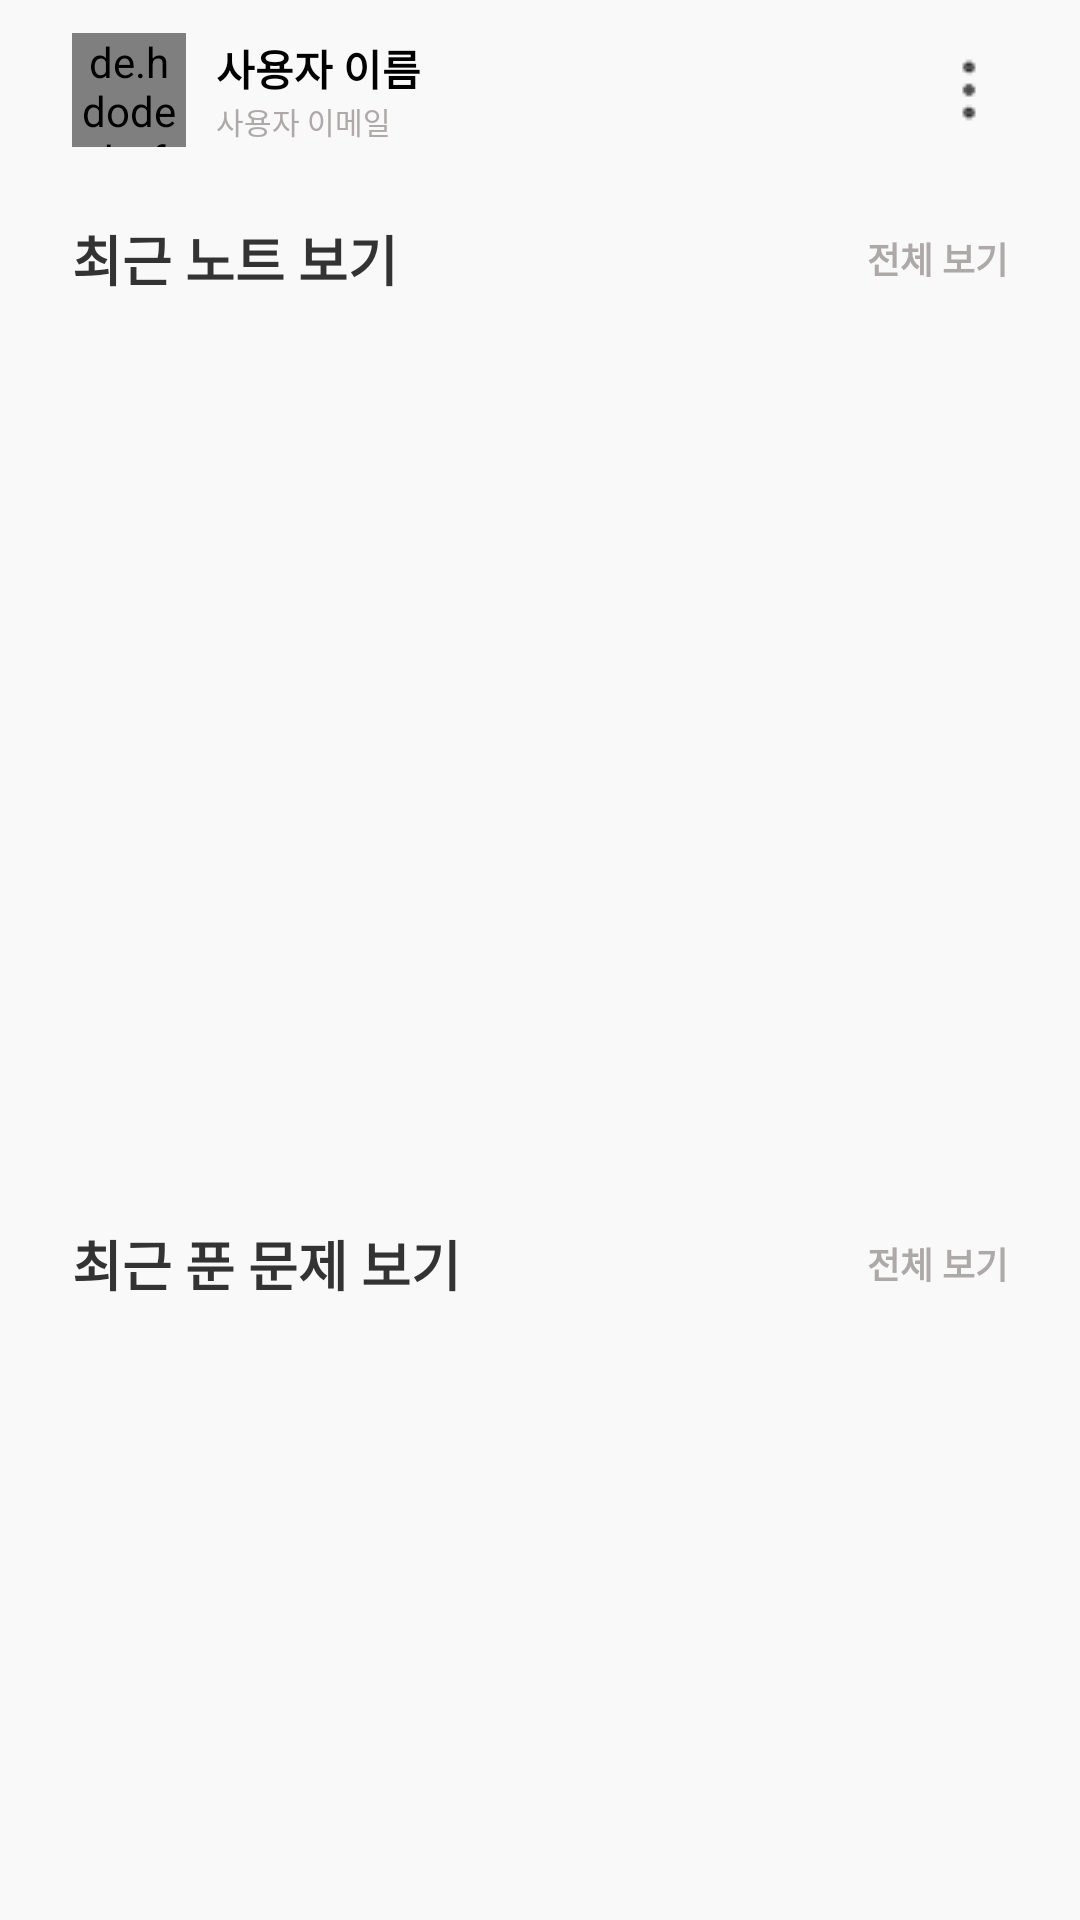

Where to tap for icons on this 1080*1920 app screen, as [x,y]:
vertical: [969,90]
